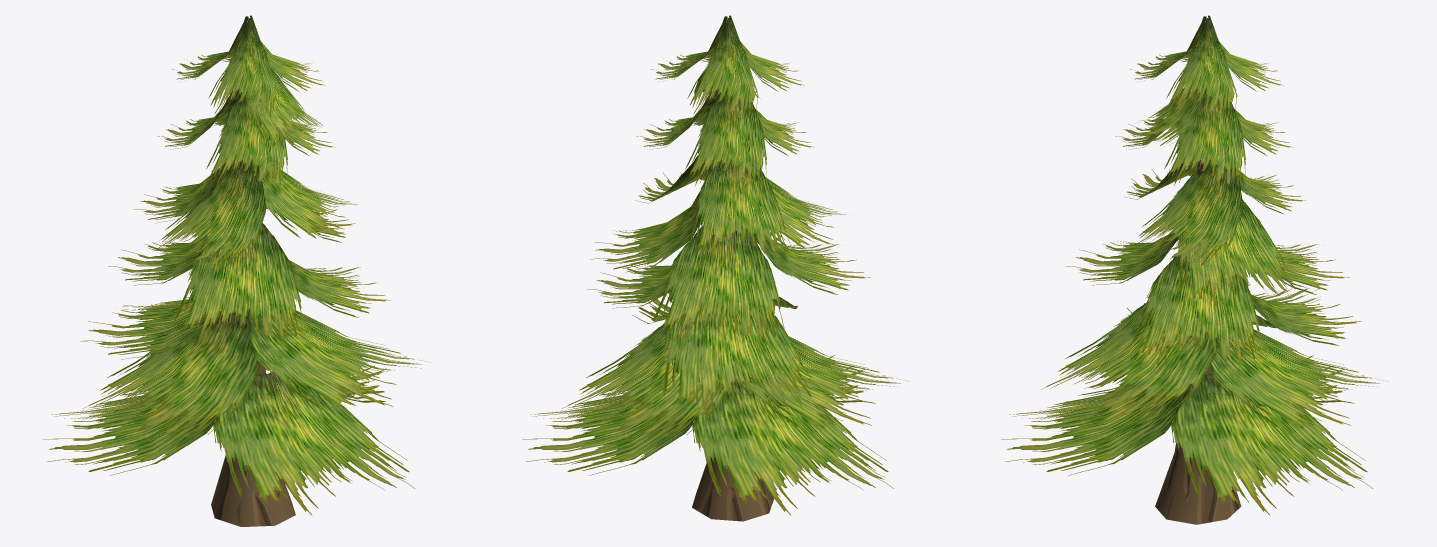
Rendered from Ctn_Pine_01_v01.FBX.
3 views of the same model, side by side, from view 1: azimuth 30°, elevation 25°; view 2: azimuth 150°, elevation 25°; view 3: azimuth 270°, elevation 25° (orthographic).
Parts seen in each view (by area): view 1: Ctn_Pine_01_v01; view 2: Ctn_Pine_01_v01; view 3: Ctn_Pine_01_v01.
Part boxes in pixels (x1,y1,x2,y2): Ctn_Pine_01_v01: (43, 15, 430, 526); Ctn_Pine_01_v01: (522, 15, 909, 521); Ctn_Pine_01_v01: (1001, 15, 1388, 524).
Bounding box in the file's own units: 5279 × 5992 × 4975.
